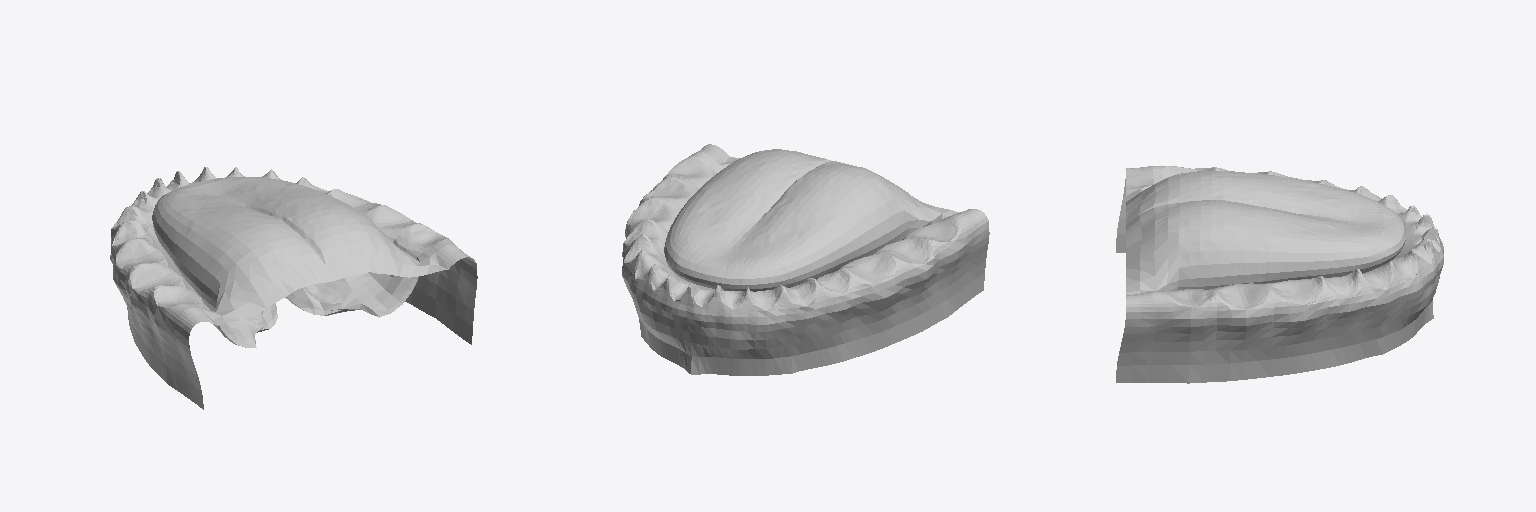
File: lower_gum_offset3.obj
3 views of the same model, side by side, from view 1: azimuth 30°, elevation 25°; view 2: azimuth 150°, elevation 25°; view 3: azimuth 270°, elevation 25° (orthographic).
Parts seen in each view (by area): view 1: lower_gum_offset2:lower_gum; view 2: lower_gum_offset2:lower_gum; view 3: lower_gum_offset2:lower_gum.
Boxes of the visible parts, x1=… form: lower_gum_offset2:lower_gum: x1=110, y1=167, x2=477, y2=409; lower_gum_offset2:lower_gum: x1=622, y1=144, x2=989, y2=375; lower_gum_offset2:lower_gum: x1=1116, y1=166, x2=1443, y2=383.
Bounding box in the file's own units: 0.1233 × 0.0506 × 0.1201.